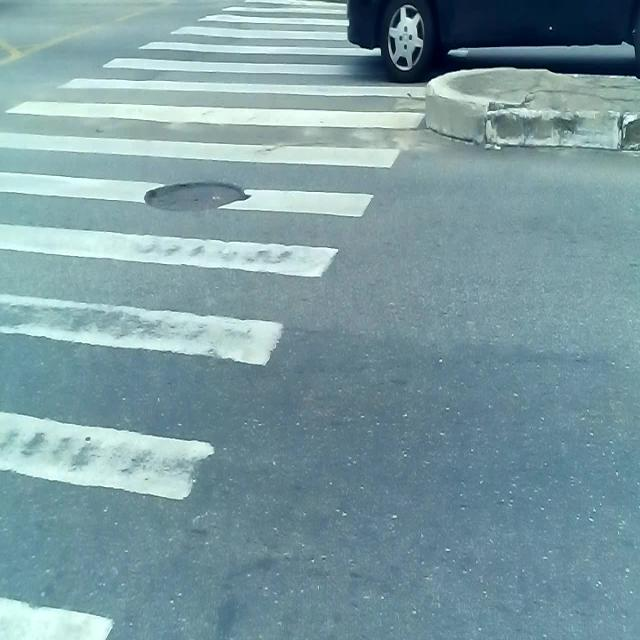crosswalk: (0, 0, 429, 640)
